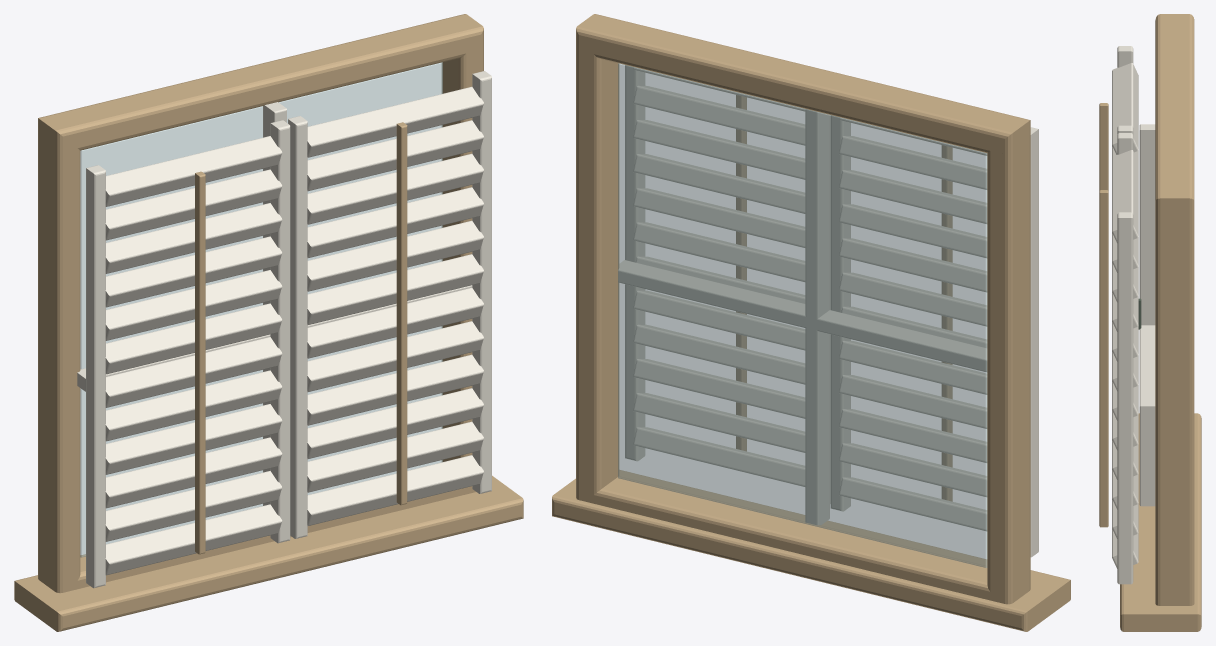
The model's file is shutters.glb.
The picture shows the model from 3 angles, left to right: view 1: azimuth 30°, elevation 25°; view 2: azimuth 150°, elevation 25°; view 3: azimuth 270°, elevation 25°; orthographic projection. The views are drawn at different scales.
Visible parts, largest first — view 1: Shutter louvre (×24), Shutter stile (×4), Horizontal frame (×2), Vertical frame (×2), Glass, Deep sill, Tilt rod (×2), Crossbar, Mullion; view 2: Glass, Shutter louvre (×22), Vertical frame (×2), Horizontal frame (×2), Deep sill, Shutter stile (×3), Mullion, Crossbar, Tilt rod (×2); view 3: Vertical frame, Shutter louvre (×13), Horizontal frame, Shutter stile (×3), Deep sill, Mullion, Tilt rod (×2), Crossbar.
Boxes of the visible parts, x1,y1,x2,y2 form: Shutter louvre (×24): (105, 86, 483, 575); Shutter stile (×4): (86, 71, 491, 588); Horizontal frame (×2): (38, 14, 483, 592); Vertical frame (×2): (38, 28, 483, 593); Glass: (80, 62, 442, 557); Deep sill: (14, 475, 523, 631); Tilt rod (×2): (195, 122, 407, 554); Crossbar: (77, 285, 472, 391); Mullion: (263, 102, 286, 505); Glass: (618, 63, 987, 567); Shutter louvre (×22): (633, 85, 987, 531); Vertical frame (×2): (576, 29, 1030, 604); Horizontal frame (×2): (576, 14, 1030, 603); Deep sill: (552, 470, 1070, 631); Shutter stile (×3): (625, 65, 1038, 557); Mullion: (805, 109, 829, 525); Crossbar: (618, 260, 987, 372); Tilt rod (×2): (736, 95, 952, 501); Vertical frame: (1155, 188, 1194, 605); Shutter louvre (×13): (1112, 63, 1138, 568); Horizontal frame: (1155, 14, 1194, 220); Shutter stile (×3): (1117, 46, 1133, 584); Deep sill: (1120, 413, 1201, 631); Mullion: (1139, 124, 1155, 506); Tilt rod (×2): (1099, 103, 1108, 527); Crossbar: (1139, 325, 1155, 417).
Size of the model in its own units: 1.34 by 1.32 by 0.288.
